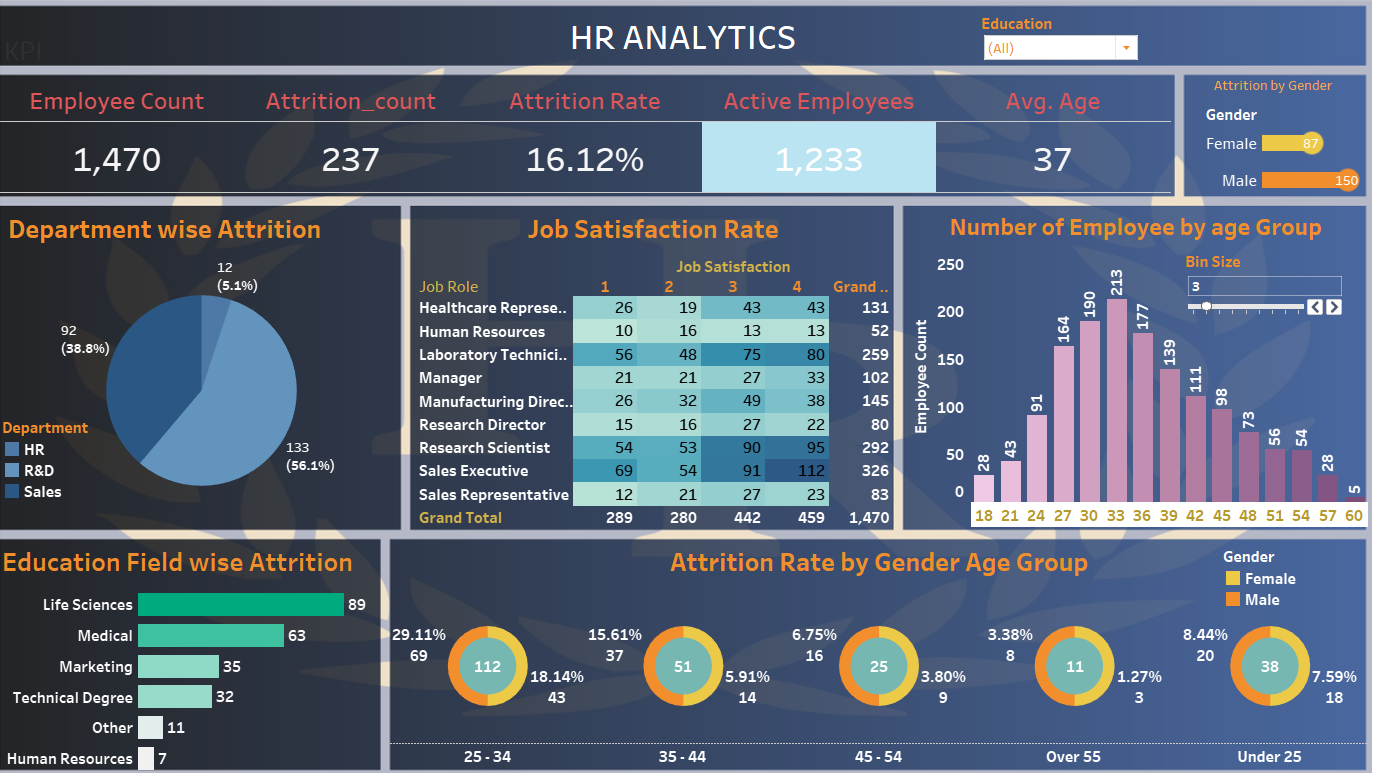

This screenshot's page, from the dashboard's own definition file:
{"tool":"tableau","page":{"name":"HR analysis ","canvas":[1580,800],"ordinal":0},"visuals":[{"type":"image","param":"C:/Users/Tipu Sultan/Downloads/HR background.pptx.png","box":[8,8,1564,784]},{"type":"text","box":[105,15,1370,65]},{"type":"filter","title":"Job Satisfaction Rate","param":"[federated.1uy4sco1sn2iqr18x12aj1f2w17q].[none:Education:nk]","box":[1088,25,160,47]},{"type":"worksheet","title":"KPI","mark":"Automatic","box":[107,41,1171,164]},{"type":"worksheet","title":"Attrition by Gender","mark":"Automatic","rows":["Gender"],"cols":["Calculation_1163617613234360320","Calculation_1163617613234360320"],"box":[1289,84,182,126]},{"type":"worksheet","title":"Number of Employee by age Group","mark":"Automatic","rows":["Employee Count"],"cols":["Age (bin)"],"box":[1010,218,465,321]},{"type":"worksheet","title":"Department wise Attrition","mark":"Pie","box":[111,219,395,318]},{"type":"worksheet","title":"Job Satisfaction Rate","mark":"Square","rows":["Job Role"],"cols":["Job Satisfaction"],"box":[520,219,480,322]},{"type":"parameter","param":"[Parameters].[Parameter 1]","box":[1292,263,160,71]},{"type":"legend","title":"Department wise Attrition","param":"[federated.1uy4sco1sn2iqr18x12aj1f2w17q].[none:Department:nk]","box":[109,429,140,85]},{"type":"worksheet","title":"Education Field wise Attrition","mark":"Automatic","rows":["Education Field"],"cols":["Calculation_1163617613234360320"],"box":[105,552,383,234]},{"type":"worksheet","title":"Attrition Rate by Gender Age Group","mark":"Pie","rows":["Calculation_1163617613304897544","Calculation_1163617613304897544"],"cols":["CF_age band"],"box":[497,552,978,228]},{"type":"legend","title":"Attrition Rate by Gender Age Group","param":"[federated.1uy4sco1sn2iqr18x12aj1f2w17q].[none:Gender:nk]","box":[1330,558,140,64]}]}

Visuals, with their boxes on the page's 1580x800 design canvas (x1, y1, x2, y2). These are canvas units, not pixel positions in the 1377x773 screenshot, which may show the page scaled, cropped or inside an application window:
image: 8, 8, 1572, 792
text: 105, 15, 1475, 80
"Job Satisfaction Rate" filter: 1088, 25, 1248, 72
"KPI" worksheet: 107, 41, 1278, 205
"Attrition by Gender" worksheet: 1289, 84, 1471, 210
"Number of Employee by age Group" worksheet: 1010, 218, 1475, 539
"Department wise Attrition" worksheet (Pie marks): 111, 219, 506, 537
"Job Satisfaction Rate" worksheet (Square marks): 520, 219, 1000, 541
parameter: 1292, 263, 1452, 334
"Department wise Attrition" legend: 109, 429, 249, 514
"Education Field wise Attrition" worksheet: 105, 552, 488, 786
"Attrition Rate by Gender Age Group" worksheet (Pie marks): 497, 552, 1475, 780
"Attrition Rate by Gender Age Group" legend: 1330, 558, 1470, 622
